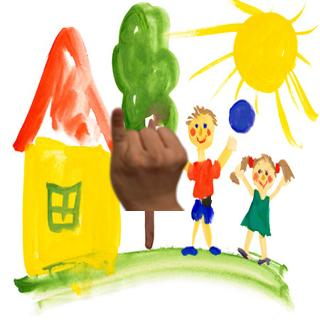FINE: (107, 106, 189, 210)
